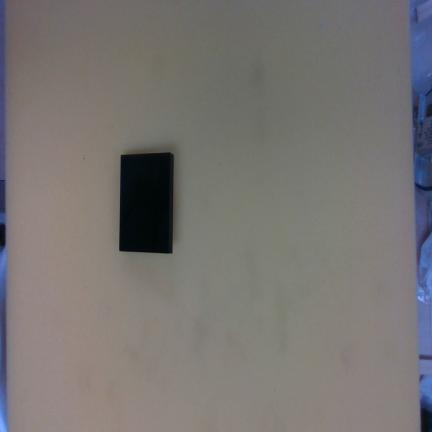tile: (120, 152, 170, 252)
